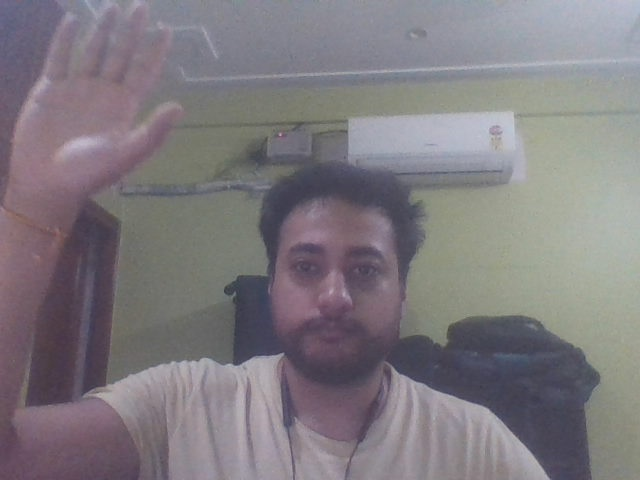Hello: (1, 1, 213, 227)
